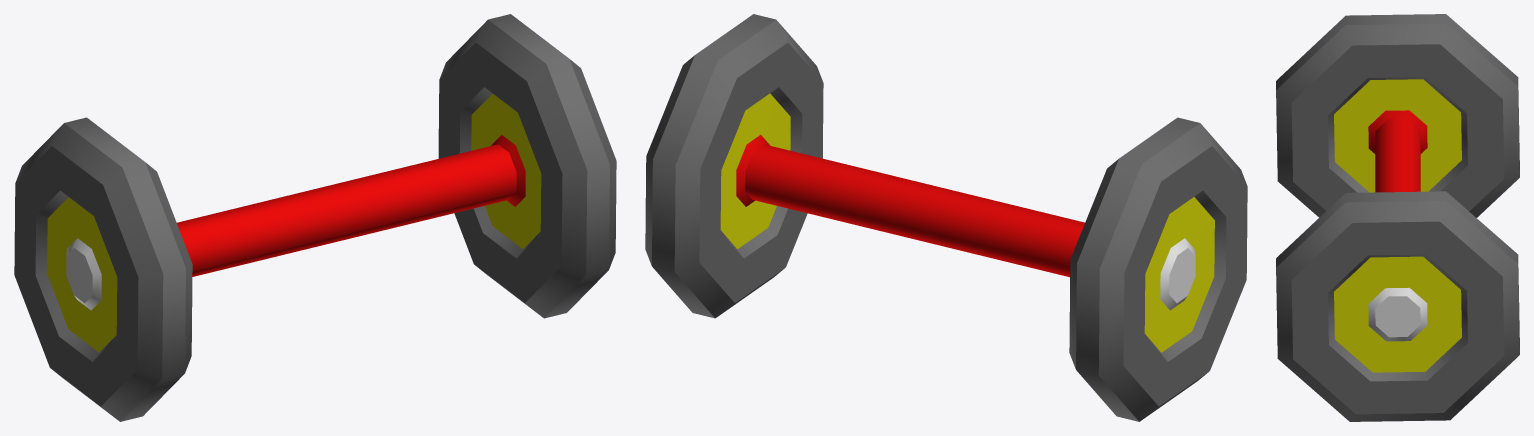
The model's file is Laundress_Wheel1.fbx.
The picture shows the model from 3 angles, left to right: view 1: azimuth 30°, elevation 25°; view 2: azimuth 150°, elevation 25°; view 3: azimuth 270°, elevation 25°; orthographic projection. The views are drawn at different scales.
Visible parts, largest first — view 1: Laundress_Wheel1; view 2: Laundress_Wheel1; view 3: Laundress_Wheel1.
Boxes of the visible parts, x1,y1,x2,y2 form: Laundress_Wheel1: [14, 14, 616, 421]; Laundress_Wheel1: [645, 14, 1247, 421]; Laundress_Wheel1: [1276, 14, 1519, 421].
Bounding box in the file's own units: 127 × 65.44 × 65.44.
